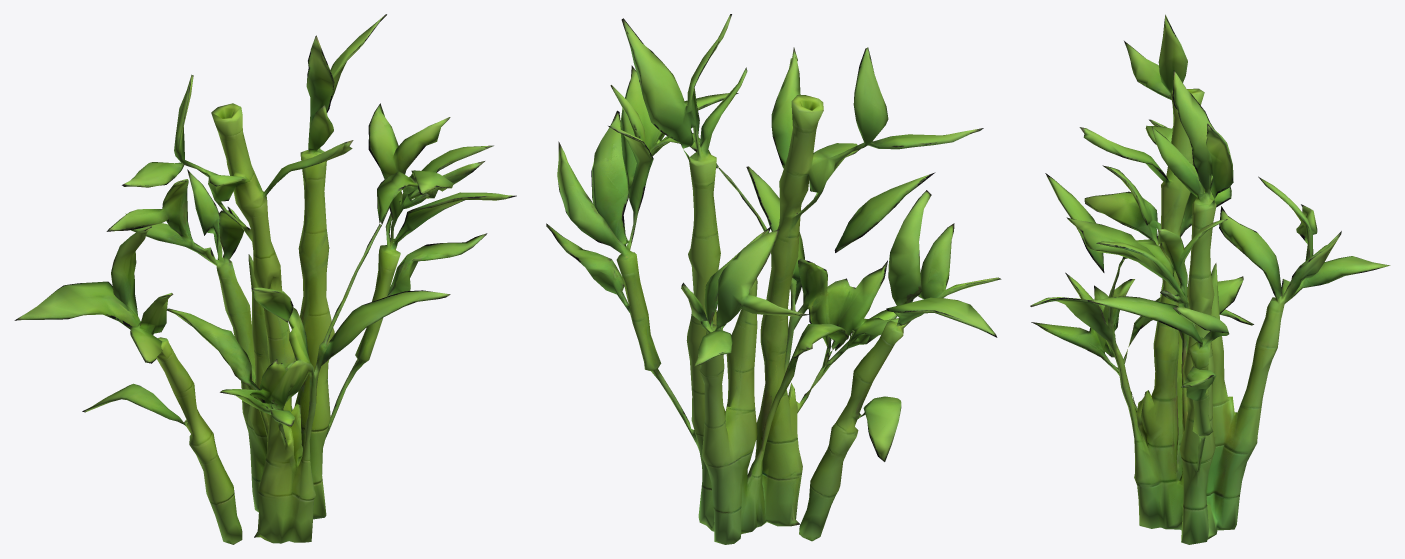
Rendered from bamboo_brazil.glb.
3 renders of one model, left to right at view 1: azimuth 30°, elevation 25°; view 2: azimuth 150°, elevation 25°; view 3: azimuth 270°, elevation 25°, orthographic. The views are drawn at different scales.
Bounding box in the file's own units: 1.96 × 2 × 1.4.
Materials: 1 (1 with a texture image).
